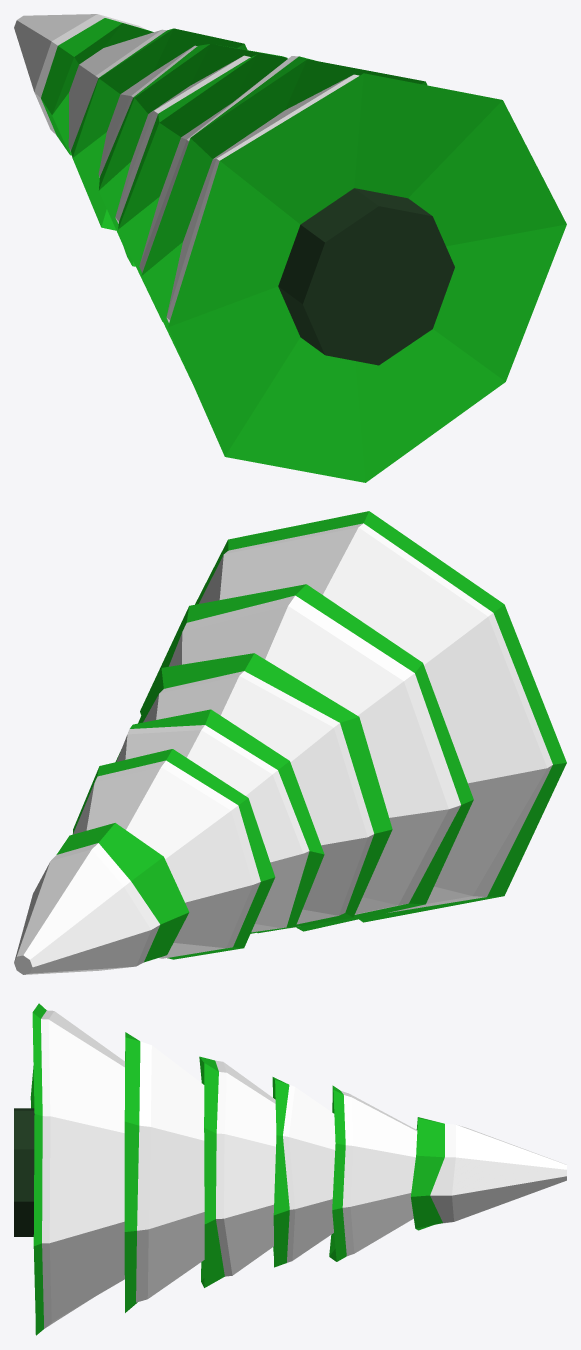
File: Pine_5_Snow.fbx
The picture shows the model from 3 angles, top to bottom: view 1: azimuth 30°, elevation 25°; view 2: azimuth 150°, elevation 25°; view 3: azimuth 270°, elevation 25°; orthographic projection. The views are drawn at different scales.
Visible parts, largest first — view 1: Pine_5_Snow; view 2: Pine_5_Snow; view 3: Pine_5_Snow.
Part boxes in pixels (bbox=[...]): Pine_5_Snow: bbox=[14, 14, 566, 482]; Pine_5_Snow: bbox=[14, 511, 566, 974]; Pine_5_Snow: bbox=[14, 1003, 566, 1335].
Bounding box in the file's own units: 107 × 105 × 165.
